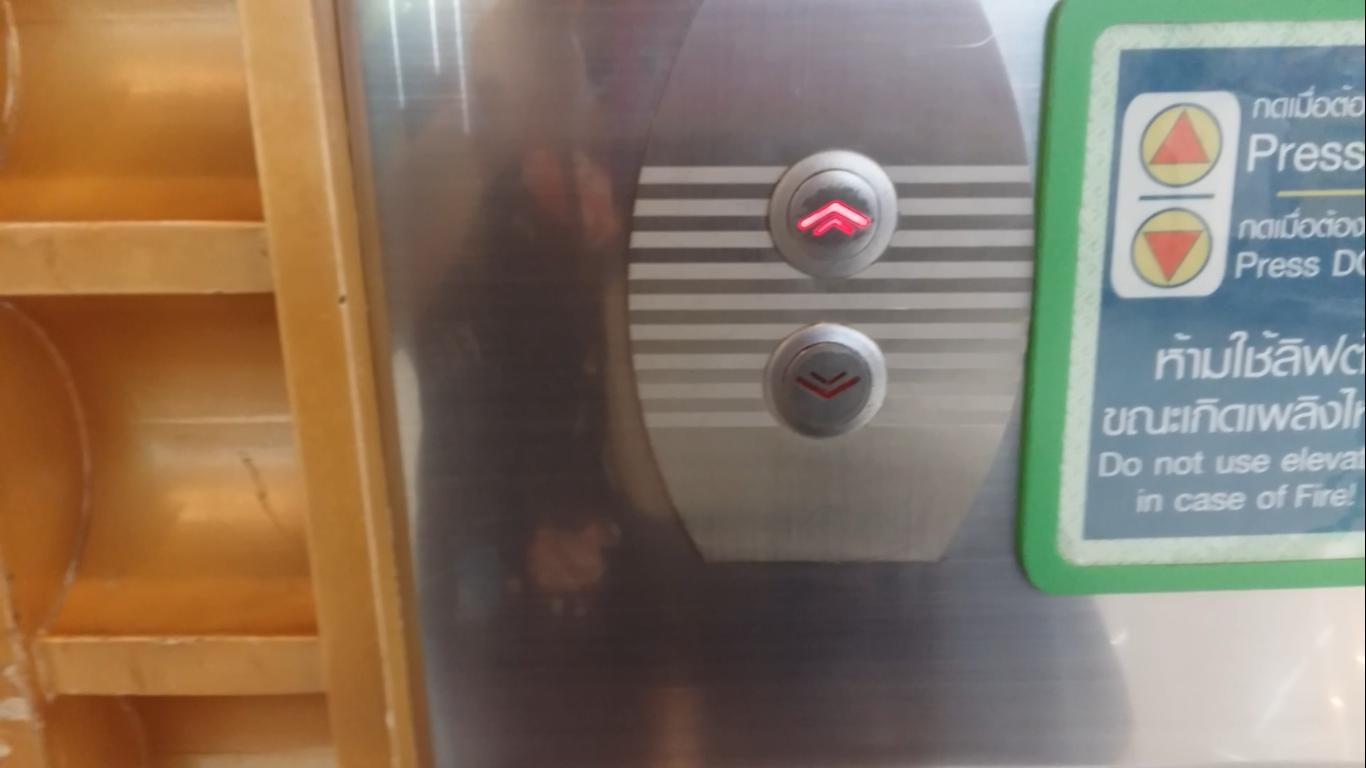down: (757, 318, 895, 456)
up: (764, 143, 902, 281)
